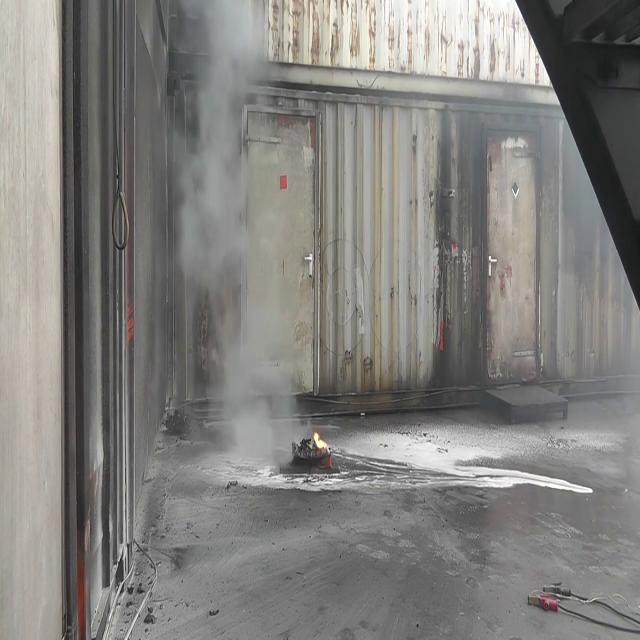Fire: (310, 424, 332, 459)
Smoke: (171, 0, 305, 471)
